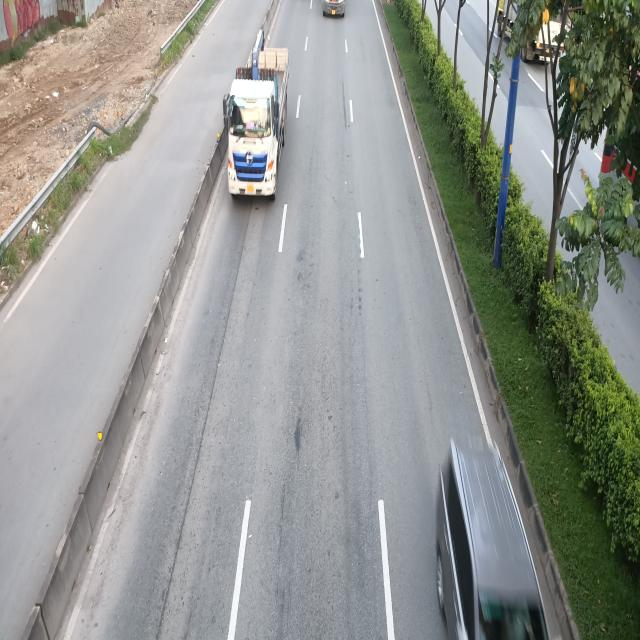car: (434, 434, 564, 640)
truck: (225, 41, 292, 197)
